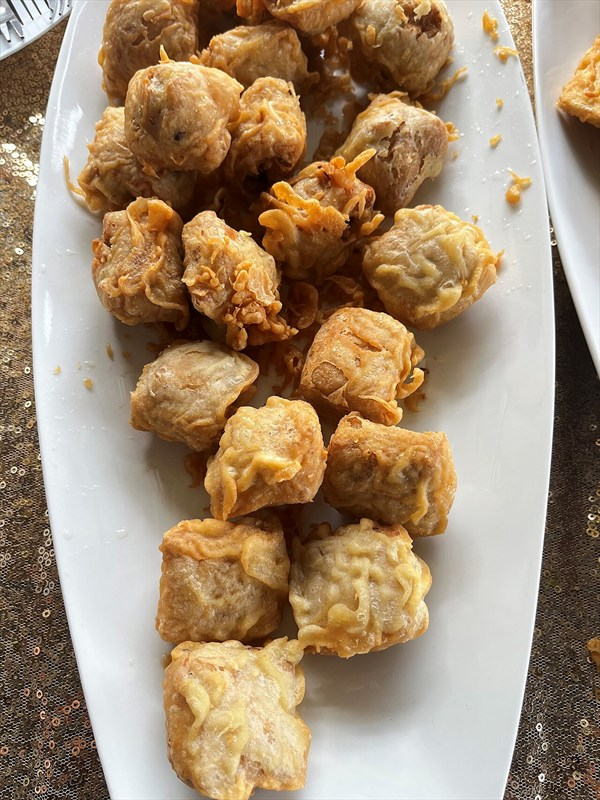Tahu Goreng: (110, 45, 505, 668)
